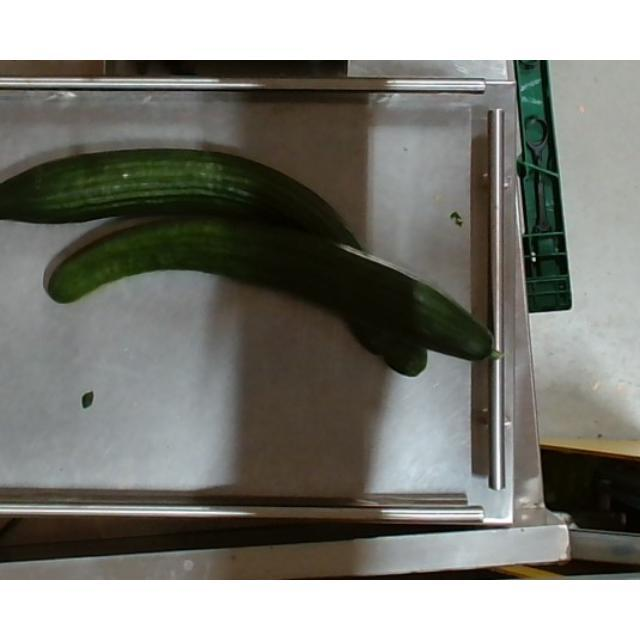cucumber: (0, 146, 428, 378), (46, 221, 502, 367)
